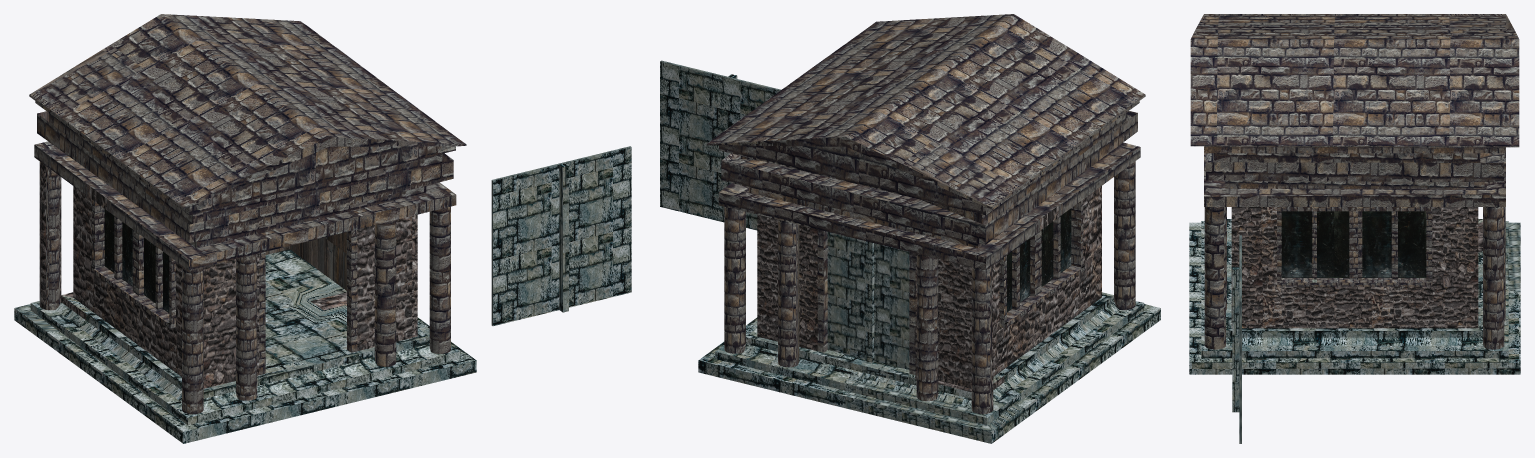
Rendered from mausoleum_and_door.fbx.
The picture shows the model from 3 angles, left to right: view 1: azimuth 30°, elevation 25°; view 2: azimuth 150°, elevation 25°; view 3: azimuth 270°, elevation 25°; orthographic projection. The views are drawn at different scales.
Visible parts, largest first — view 1: mausoleum, mausoleumdoor; view 2: mausoleum, mausoleumdoor; view 3: mausoleum, mausoleumdoor.
Boxes of the visible parts, x1,y1,x2,y2 form: mausoleum: (14, 14, 476, 443); mausoleumdoor: (491, 146, 631, 326); mausoleum: (698, 14, 1160, 443); mausoleumdoor: (660, 60, 781, 230); mausoleum: (1189, 14, 1520, 374); mausoleumdoor: (1232, 235, 1241, 443).
Size of the model in its own units: 10.23 by 5.59 by 6.33.
Materials: 6 (5 with a texture image).
